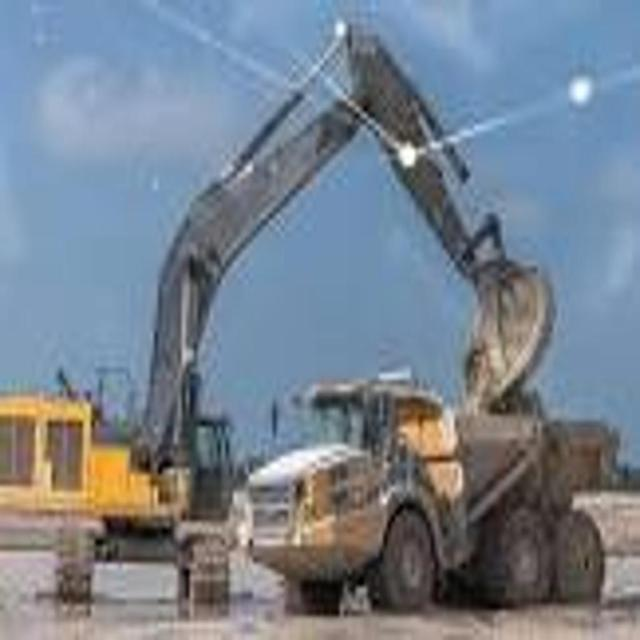dump_truck: (262, 358, 616, 619)
